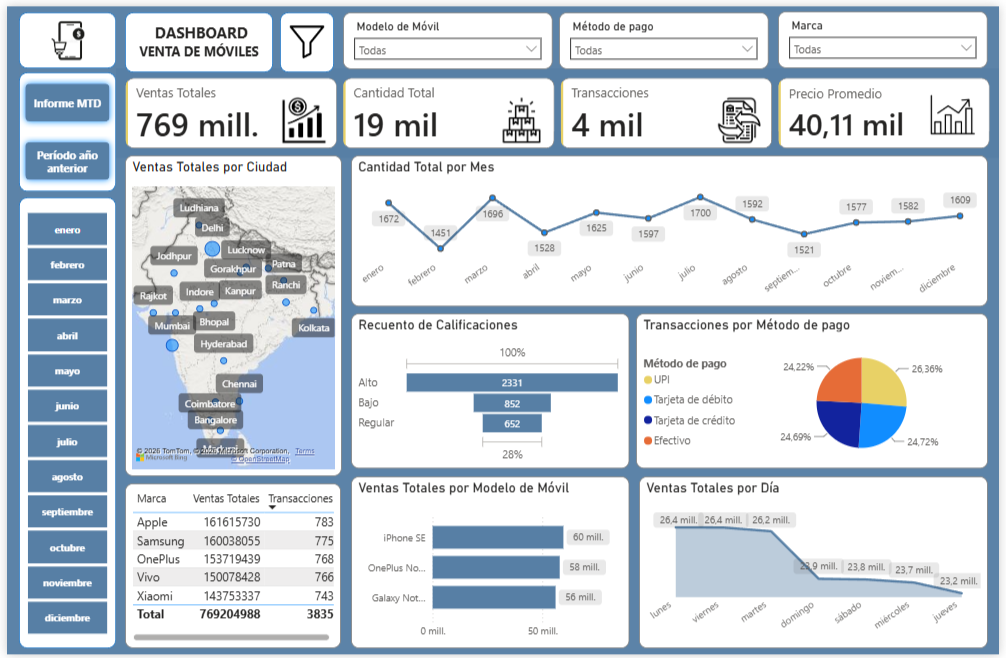

This screenshot's page, from the dashboard's own definition file:
{"tool":"powerbi","page":{"name":"Dashboard","canvas":[1240,810],"ordinal":0},"visuals":[{"type":"shape","box":[15.6,7.8,121.2,70],"z":0},{"type":"shape","box":[15.6,83,121.2,149],"z":1000},{"type":"shape","box":[15.6,238.9,121.2,563.8],"z":2000},{"type":"slicer","fields":{"Values":["Custom_Calendar.Fecha.Variación.Jerarquía de fechas.Mes"]},"box":[0,251.1,148.8,540],"z":3000},{"type":"cardVisual","fields":{"Data":["Sales_Data.Total_Sales","Sales_Data.Total_Quantity","Sales_Data.Transactions","Sales_Data.Average_Price"]},"box":[136.2,77.5,1106.2,112.5],"z":4000},{"type":"slicer","fields":{"Values":["Sales_Data.Mobile Model"]},"box":[420,7.5,262,71.2],"z":5000},{"type":"slicer","fields":{"Values":["Sales_Data.Payment Method"]},"box":[690,7.5,262,71.2],"z":6000},{"type":"slicer","fields":{"Values":["Sales_Data.Brand"]},"box":[963.8,6.2,262,71.2],"z":7000},{"type":"shape","box":[341.2,7.5,67.5,75],"z":8000},{"type":"image","box":[352.5,22.5,45,43.8],"z":9000},{"type":"shape","box":[147.5,7.5,185,75],"z":10000},{"type":"textbox","box":[155,15,170,58.8],"z":11000},{"type":"map","title":"Ventas Totales por Ciudad","fields":{"Category":["Sales_Data.City"],"Size":["Sales_Data.Total_Sales"]},"box":[147.5,186.2,271.2,401.2],"z":12000},{"type":"lineChart","title":"Cantidad Total por Mes","fields":{"Y":["Sales_Data.Total_Quantity"],"Category":["Custom_Calendar.Fecha.Variación.Jerarquía de fechas.Mes"]},"box":[430,186.2,796.2,188.8],"z":13000},{"type":"funnel","title":"Recuento de Calificaciones","fields":{"Category":["Sales_Data.Rating Status"],"Y":["CountNonNull(Sales_Data.Rating Status)"]},"box":[430,383.8,347.5,193.8],"z":14000},{"type":"pieChart","title":"Transacciones por Método de pago","fields":{"Y":["Sales_Data.Transactions"],"Category":["Sales_Data.Payment Method"]},"box":[786.2,383.8,440,193.8],"z":15000},{"type":"clusteredBarChart","title":"Ventas Totales por Modelo de Móvil","fields":{"Y":["Sales_Data.Total_Sales"],"Category":["Sales_Data.Mobile Model"]},"box":[430,587.5,347.5,215],"z":16000},{"type":"areaChart","title":"Ventas Totales por Día","fields":{"Y":["Sales_Data.Total_Sales"],"Category":["Custom_Calendar.Nombre del día"]},"box":[790,587.5,436.2,215],"z":17000},{"type":"tableEx","fields":{"Values":["Sales_Data.Brand","Sales_Data.Total_Sales","Sales_Data.Transactions"]},"box":[147.5,596.2,270,206.2],"z":18000},{"type":"pageNavigator","box":[15,88.8,121.2,137.5],"z":19000},{"type":"image","box":[43.8,1.2,65,83],"z":20000}]}

Visuals, with their boxes in screenshot pixels (x1, y1, x2, y2), scaled from the page's 1240x810 canvas onto the 1006x658 screenshot:
shape: [left=13, top=6, right=111, bottom=63]
shape: [left=13, top=67, right=111, bottom=188]
shape: [left=13, top=194, right=111, bottom=652]
slicer - Custom_Calendar.Fecha.Variación.Jerarquía de fechas.Mes: [left=0, top=204, right=121, bottom=643]
cardVisual - Sales_Data.Total_Sales x Sales_Data.Total_Quantity: [left=110, top=63, right=1005, bottom=154]
slicer - Sales_Data.Mobile Model: [left=341, top=6, right=553, bottom=64]
slicer - Sales_Data.Payment Method: [left=560, top=6, right=772, bottom=64]
slicer - Sales_Data.Brand: [left=782, top=5, right=994, bottom=63]
shape: [left=277, top=6, right=332, bottom=67]
image: [left=286, top=18, right=322, bottom=54]
shape: [left=120, top=6, right=270, bottom=67]
textbox: [left=126, top=12, right=264, bottom=60]
"Ventas Totales por Ciudad" map: [left=120, top=151, right=340, bottom=477]
"Cantidad Total por Mes" lineChart: [left=349, top=151, right=995, bottom=305]
"Recuento de Calificaciones" funnel: [left=349, top=312, right=631, bottom=469]
"Transacciones por Método de pago" pieChart: [left=638, top=312, right=995, bottom=469]
"Ventas Totales por Modelo de Móvil" clusteredBarChart: [left=349, top=477, right=631, bottom=652]
"Ventas Totales por Día" areaChart: [left=641, top=477, right=995, bottom=652]
tableEx - Sales_Data.Brand x Sales_Data.Total_Sales: [left=120, top=484, right=339, bottom=652]
pageNavigator: [left=12, top=72, right=110, bottom=184]
image: [left=36, top=1, right=88, bottom=68]
